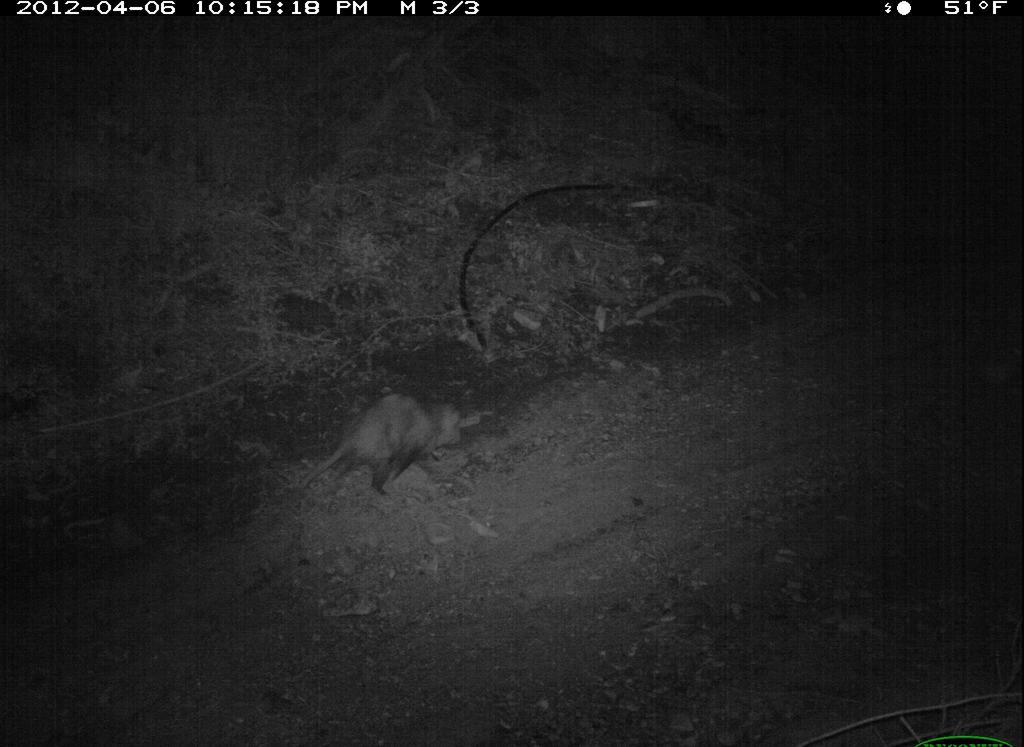opossum: (303, 391, 470, 502)
